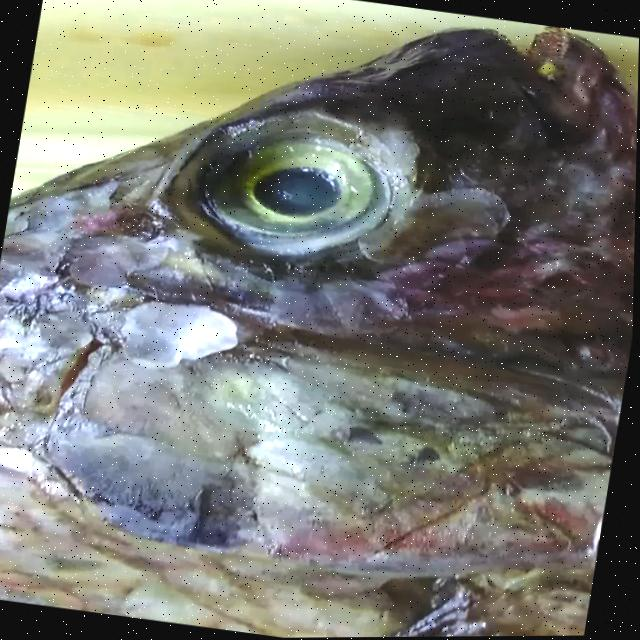Non-Fresh: (129, 60, 444, 299)
